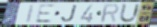4: (79, 4, 95, 23)
E: (34, 4, 57, 24)
I: (25, 4, 37, 24)
J: (60, 4, 79, 23)
R: (100, 3, 120, 24)
U: (118, 2, 142, 24)
